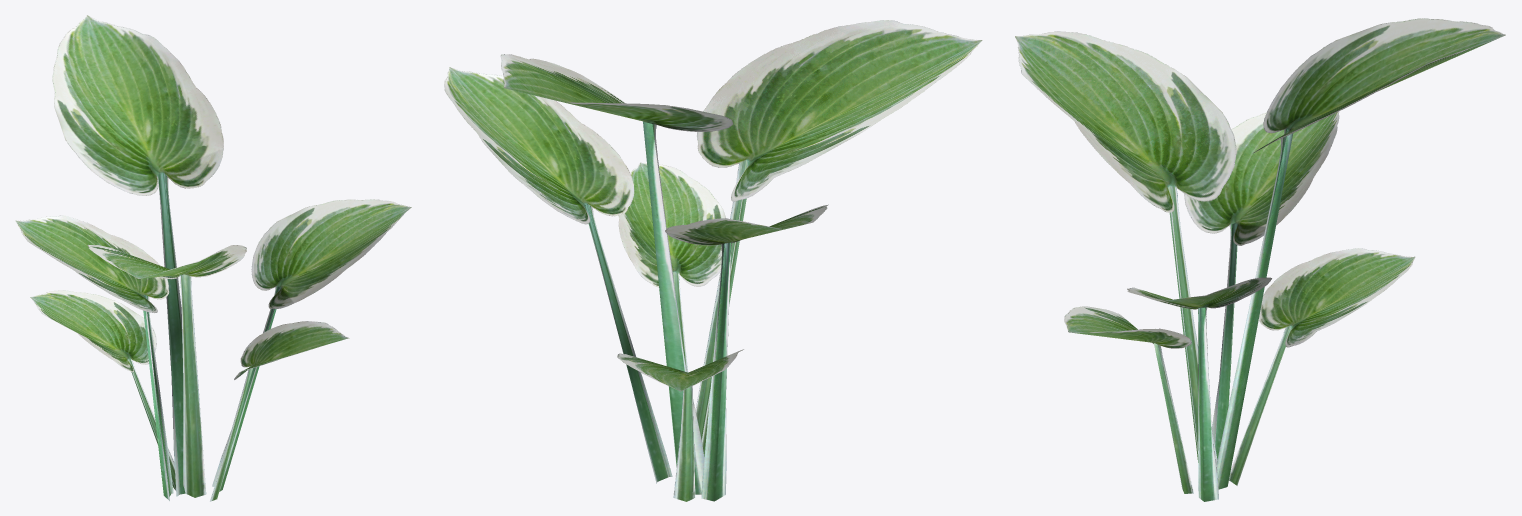
Rendered from plant_small_wg_05AA2.fbx.
3 views of the same model, side by side, from view 1: azimuth 30°, elevation 25°; view 2: azimuth 150°, elevation 25°; view 3: azimuth 270°, elevation 25° (orthographic). The views are drawn at different scales.
Visible parts, largest first — view 1: plant_small_wg_05AA2; view 2: plant_small_wg_05AA2; view 3: plant_small_wg_05AA2.
Boxes of the visible parts, left/top/right/bottom form: plant_small_wg_05AA2: left=15, top=15, right=411, bottom=501; plant_small_wg_05AA2: left=444, top=20, right=982, bottom=501; plant_small_wg_05AA2: left=1015, top=18, right=1505, bottom=501.
Bounding box in the file's own units: 43.77 × 46.57 × 45.11.
